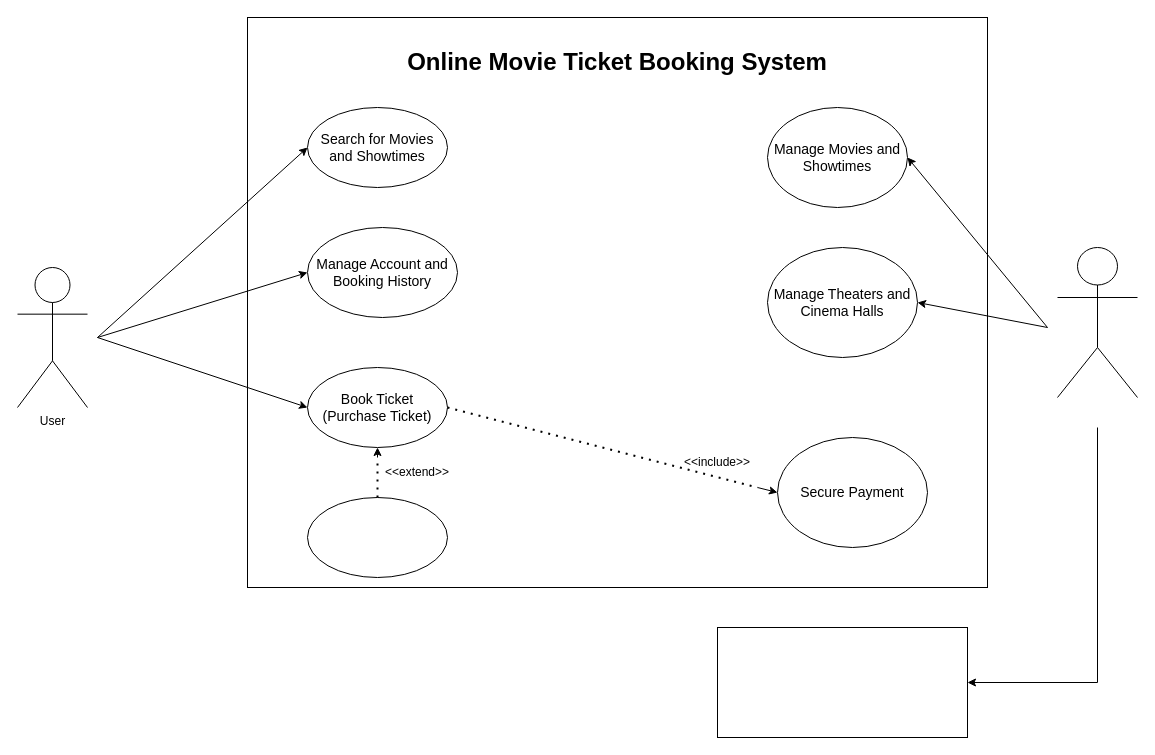
This 1155x755 diagram has some shape labels left out. The box of each missing label's shape, as (x1, y1, x2, y2) in pixels:
Admin: (1056, 246, 1138, 398)
Apply Discount Code/Voucher: (306, 496, 448, 578)
Payment Gateway <<External System>>: (716, 626, 968, 738)
